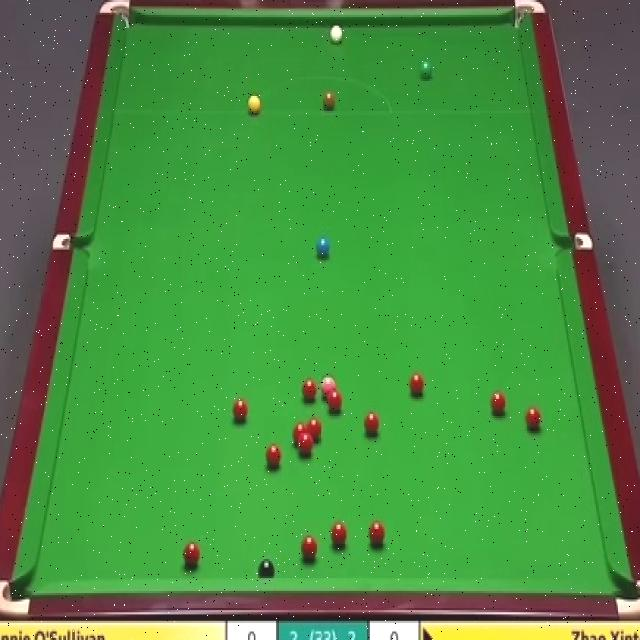black-ball: (258, 560, 274, 576)
blue-ball: (315, 236, 329, 258)
brown-ball: (322, 90, 336, 111)
green-ball: (420, 57, 432, 78)
pink-ball: (320, 374, 336, 400)
red-ball: (488, 389, 507, 416), (330, 522, 348, 550), (526, 407, 544, 435), (182, 540, 201, 566), (231, 396, 249, 422), (300, 534, 318, 560), (298, 431, 314, 460), (264, 442, 281, 469), (304, 416, 322, 441), (364, 410, 380, 435), (368, 522, 386, 544), (302, 378, 317, 404), (293, 422, 308, 447), (410, 373, 426, 395), (328, 392, 342, 412)
white-ball: (329, 24, 344, 45)
yellow-ball: (245, 94, 262, 115)
